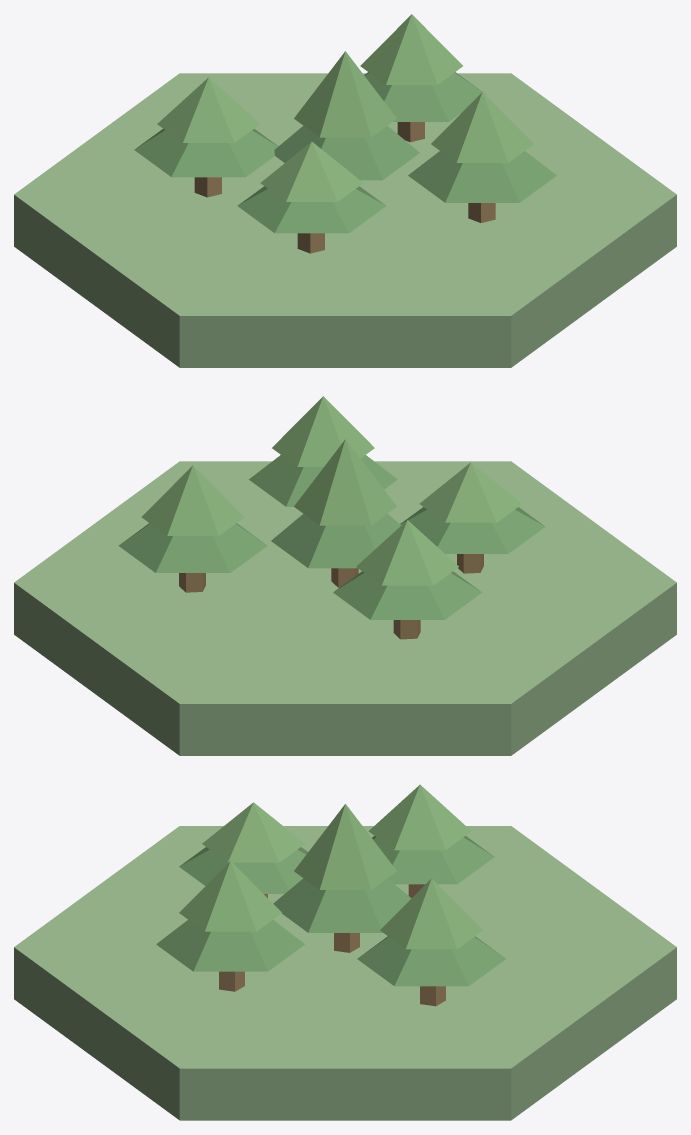
Rendered from hex_forest.glb.
3 views of the same model, one above another, from view 1: azimuth 30°, elevation 25°; view 2: azimuth 150°, elevation 25°; view 3: azimuth 270°, elevation 25° (orthographic).
Visible parts, largest first — view 1: hex_forest; view 2: hex_forest; view 3: hex_forest.
Boxes of the visible parts, <box> form: hex_forest: <box>14,14,676,367</box>; hex_forest: <box>14,396,676,755</box>; hex_forest: <box>14,784,676,1120</box>.
Size of the model in its own units: 1 by 0.376 by 1.15.
